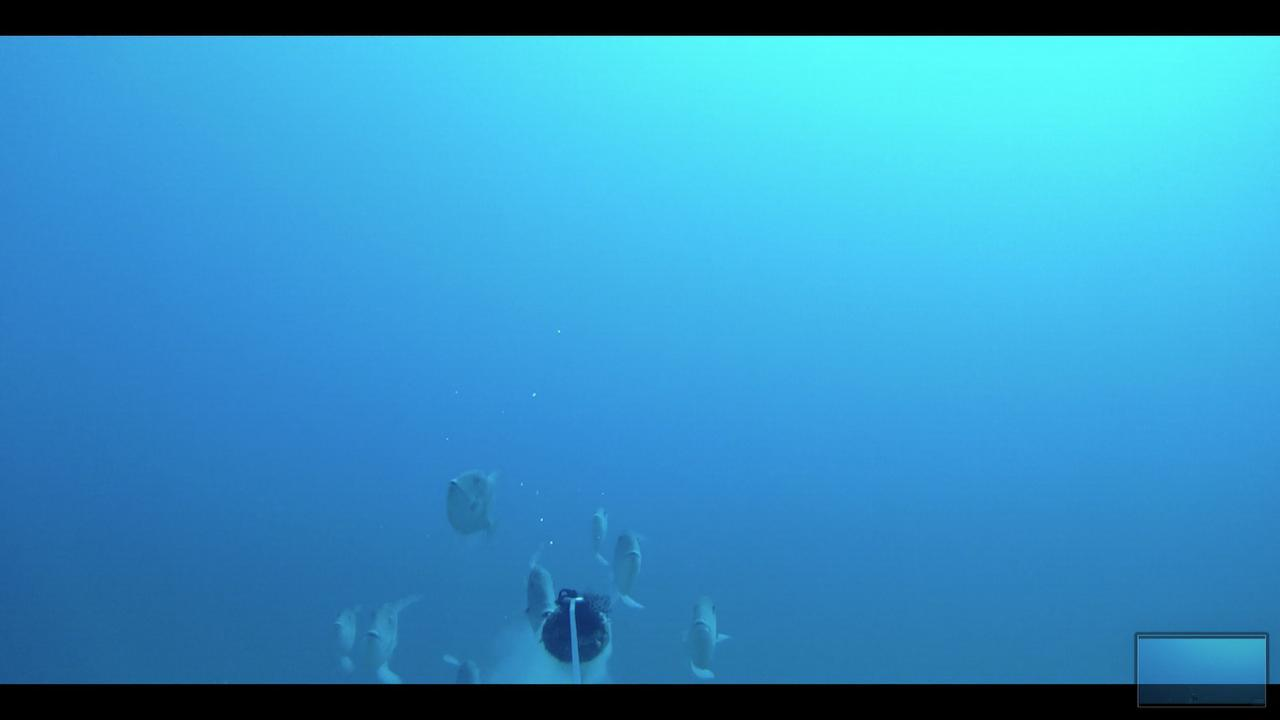balistes: (437, 452, 505, 552), (359, 582, 423, 680), (676, 588, 735, 680), (517, 540, 562, 640), (603, 527, 650, 613), (582, 494, 614, 571), (328, 592, 358, 672)
